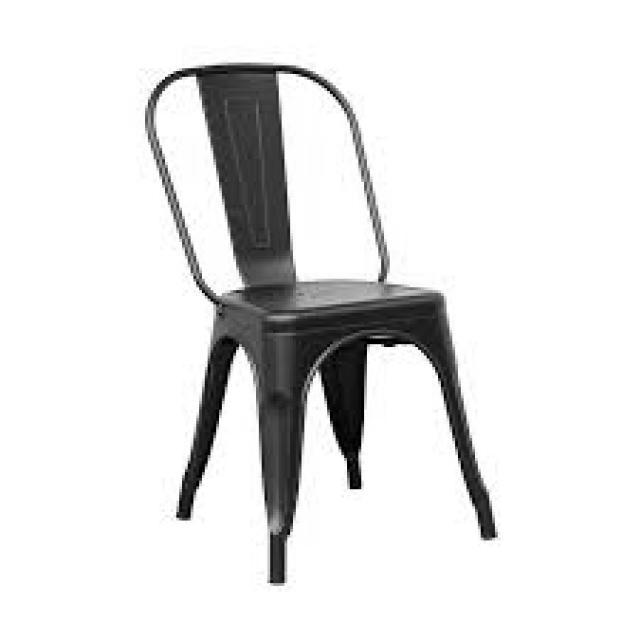chair: (132, 59, 504, 592)
